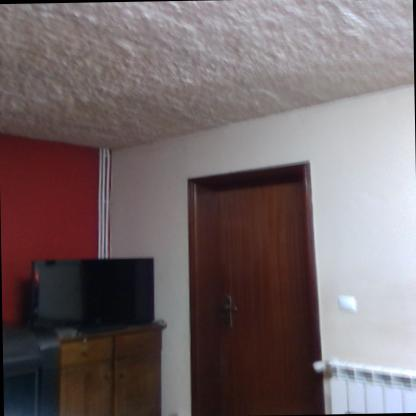closed: (171, 156, 332, 416)
